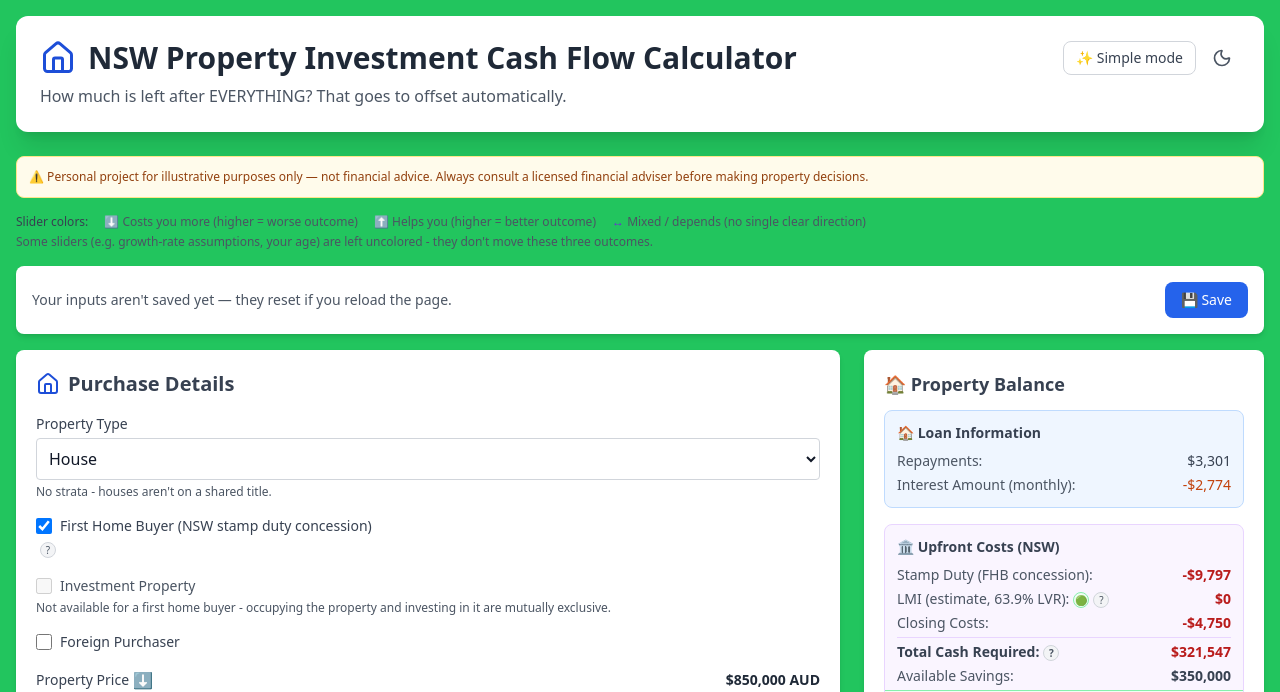
Simple / Advanced UI mode (TODO-135) › switching to Simple hides the Advanced-only cards but keeps the core inputs editable
What coordinates should you click on to do the following:
click the button "✨ Simple mode"
I would click on:
 (1130, 58)
Its box is 1063,41 -> 1196,75.
(page scrolled)
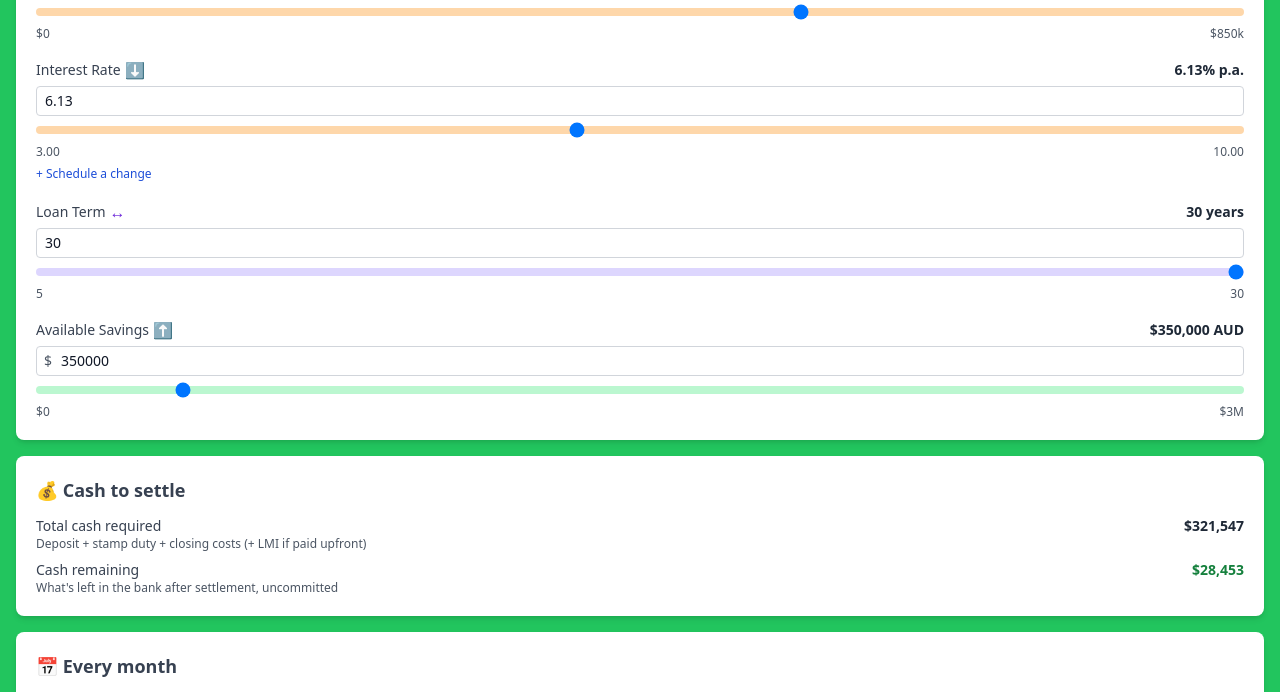
Expected: the number field labelled "Interest Rate" is shown, 36,86 -> 1244,116
Expected: the number field labelled "Loan Term" is shown, 36,228 -> 1244,258
Expected: the number field labelled "Available Savings" is shown, 36,346 -> 1244,376
